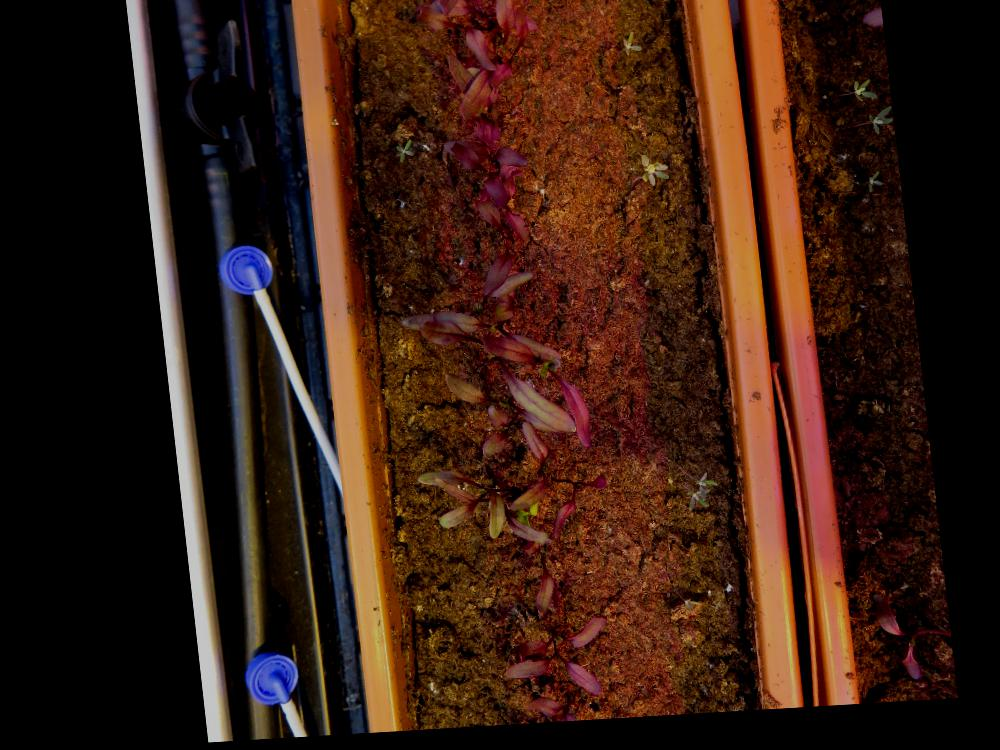weed: (847, 89, 873, 114), (616, 39, 640, 66), (387, 146, 411, 169), (859, 181, 879, 204)
